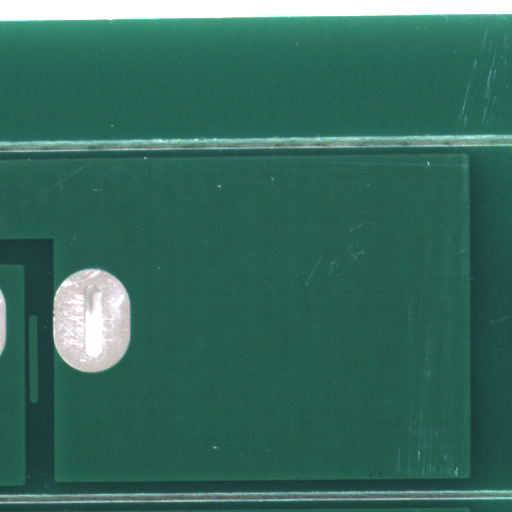Spurious_copper: (33, 359, 48, 449)
